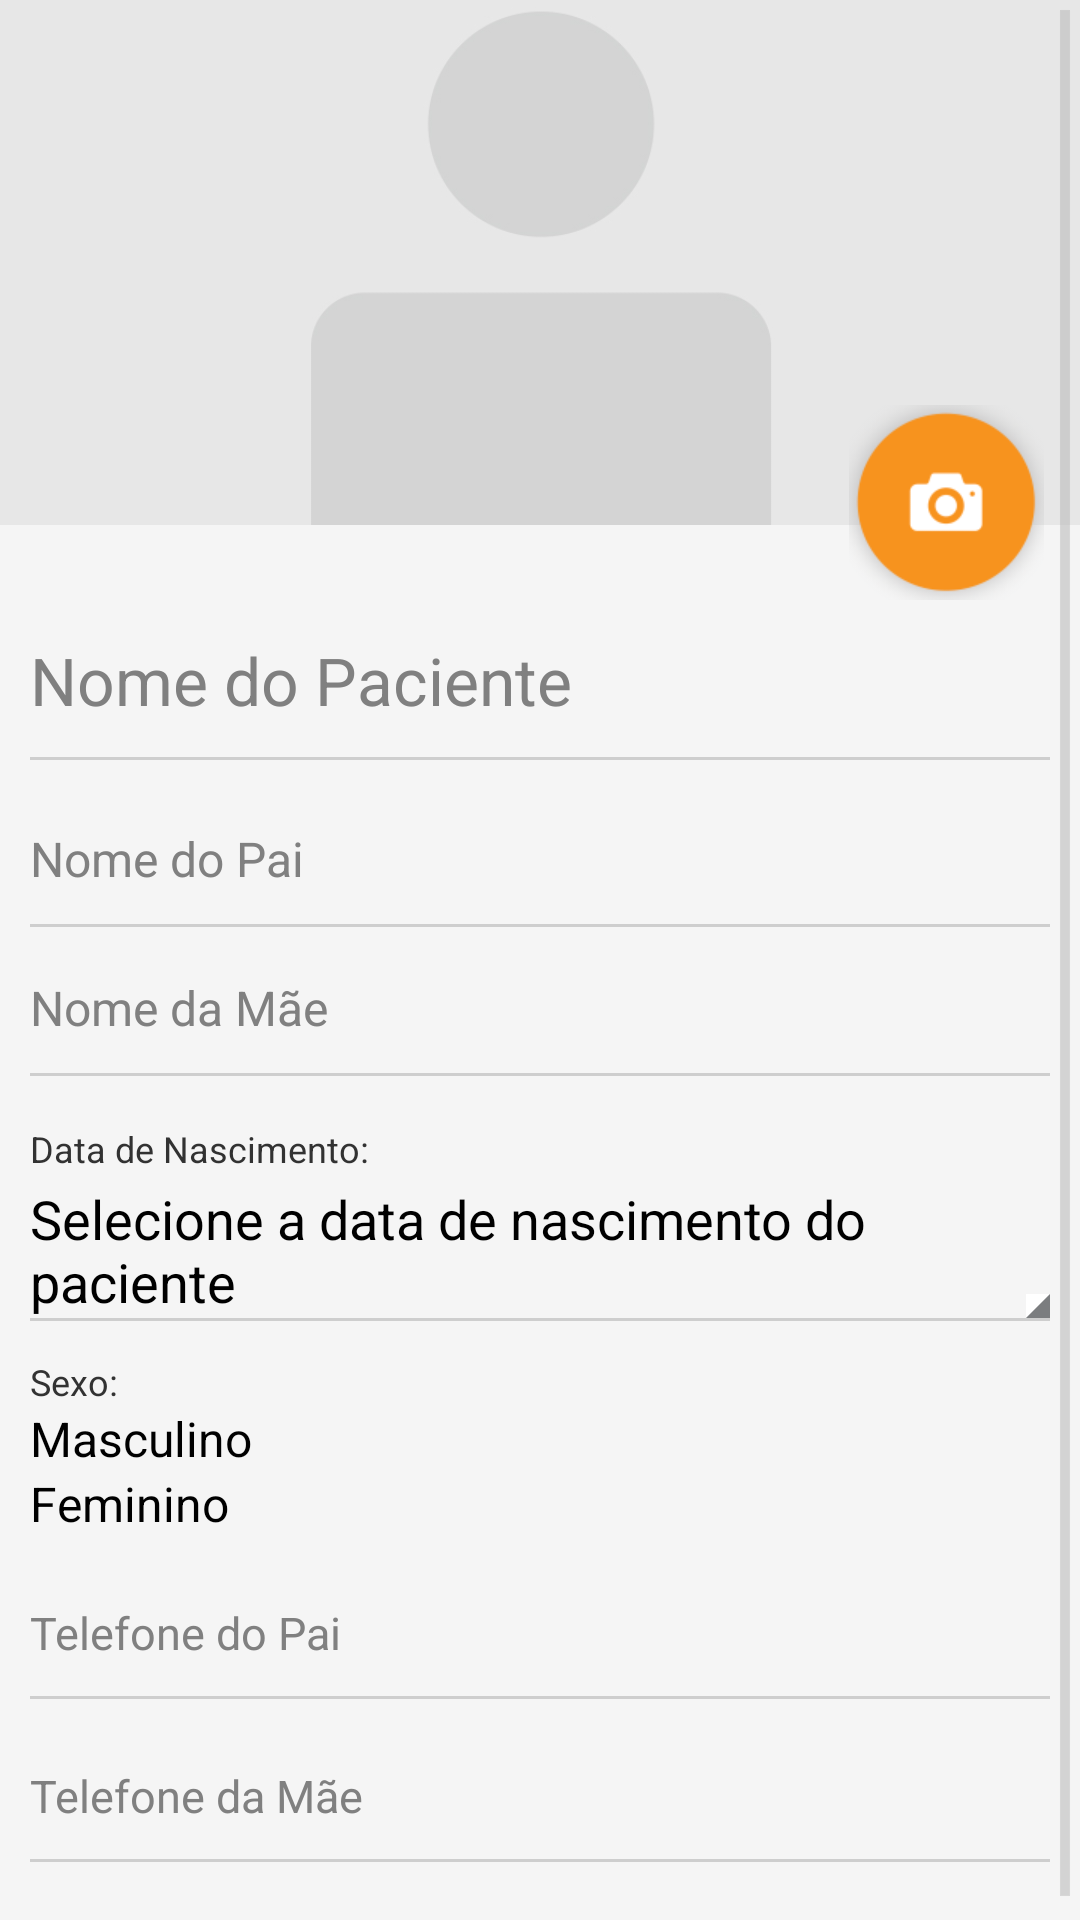

Icons on this 1080px×1920px Android screen, each with its box as rect(x1, y1, x2, y2):
camera: rect(856, 412, 1036, 592)
